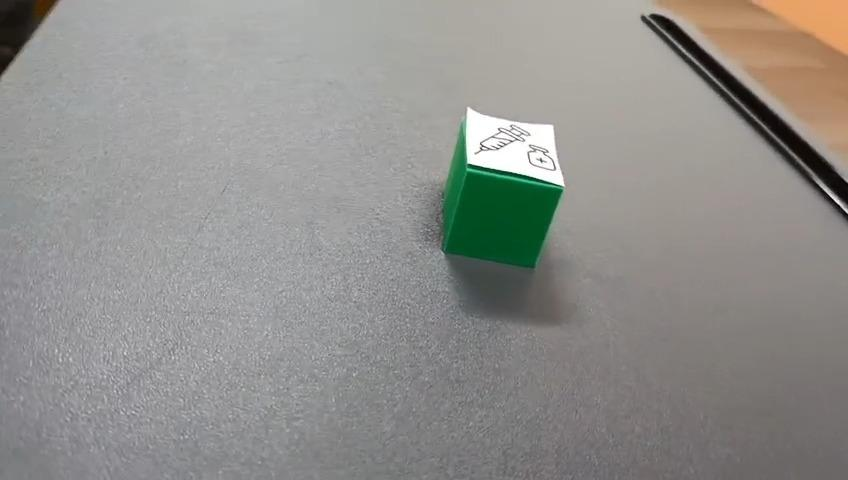antiseptic cream: (438, 105, 566, 270)
